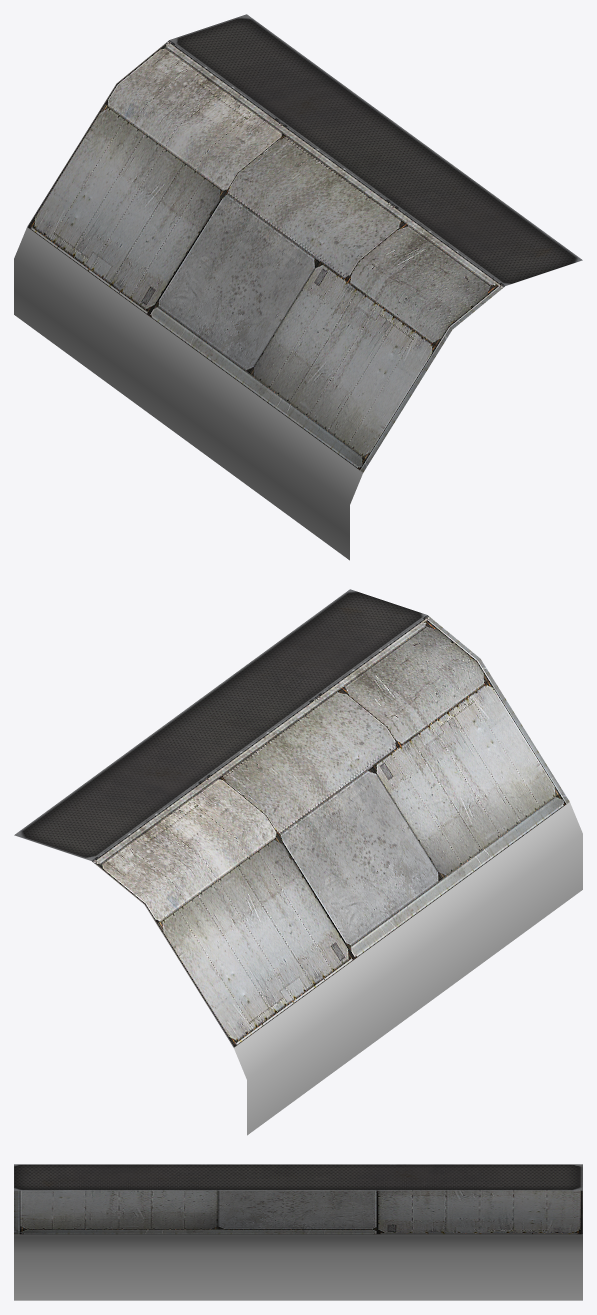
File: Roof_B_Short2mts_00.fbx
3 renders of one model, top to bottom at view 1: azimuth 30°, elevation 25°; view 2: azimuth 150°, elevation 25°; view 3: azimuth 270°, elevation 25°, orthographic. The views are drawn at different scales.
Visible parts, largest first — view 1: Roof_B_Short2mts_00; view 2: Roof_B_Short2mts_00; view 3: Roof_B_Short2mts_00.
Boxes of the visible parts, x1,y1,x2,y2 form: Roof_B_Short2mts_00: (14,14,582,560); Roof_B_Short2mts_00: (14,589,582,1135); Roof_B_Short2mts_00: (14,1164,582,1300).
Size of the model in its own units: 200 by 200 by 500.
